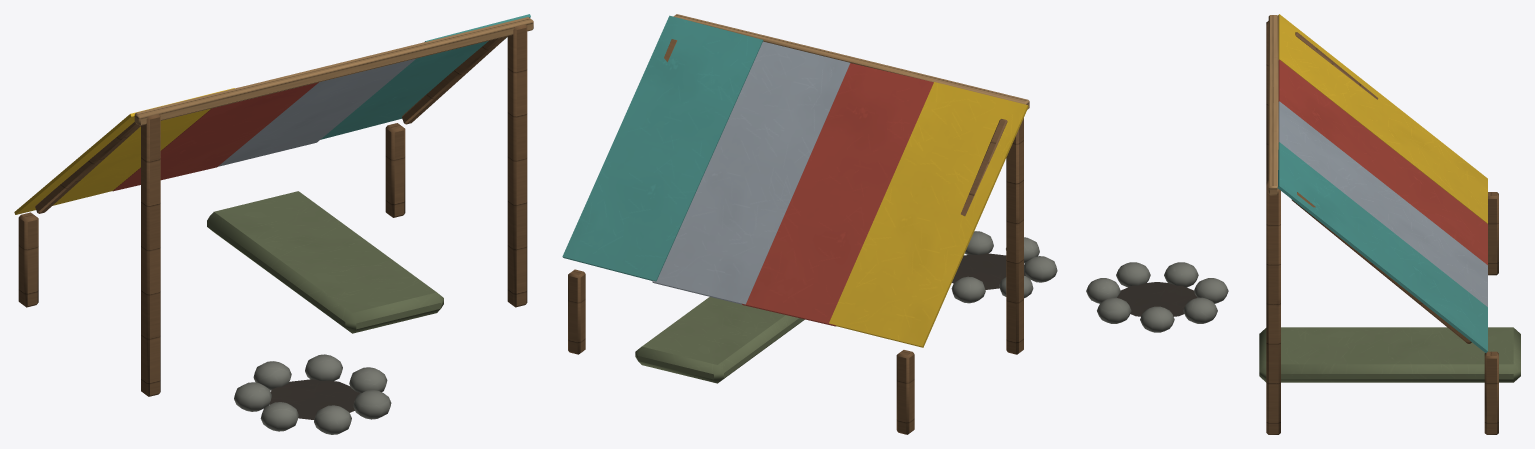
The model's file is tarp_shelter.glb.
3 views of the same model, side by side, from view 1: azimuth 30°, elevation 25°; view 2: azimuth 150°, elevation 25°; view 3: azimuth 270°, elevation 25° (orthographic). The views are drawn at different scales.
Parts seen in each view (by area): view 1: tarp_shelter; view 2: tarp_shelter; view 3: tarp_shelter.
Boxes of the visible parts, box(x1,y1,x2,y2) form: tarp_shelter: box(14, 14, 533, 434); tarp_shelter: box(562, 14, 1057, 434); tarp_shelter: box(1086, 14, 1520, 434).
Bounding box in the file's own units: 2.85 × 1.92 × 2.99.
9 materials, 9 textured.
